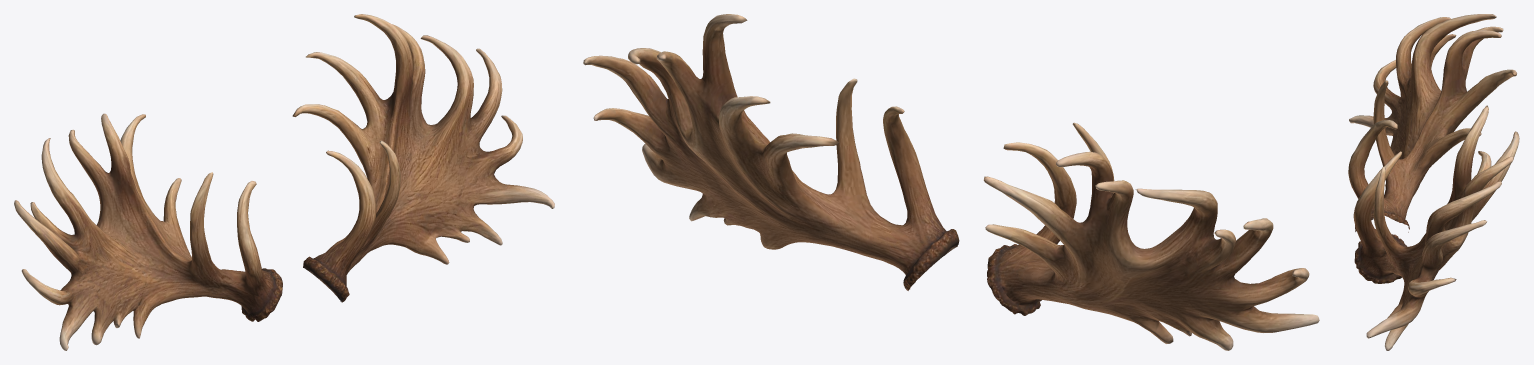
The model's file is antlers_tripo.glb.
3 views of the same model, side by side, from view 1: azimuth 30°, elevation 25°; view 2: azimuth 150°, elevation 25°; view 3: azimuth 270°, elevation 25° (orthographic). The views are drawn at different scales.
Parts seen in each view (by area): view 1: Antlers; view 2: Antlers; view 3: Antlers.
Part boxes in pixels (x1,y1,x2,y2): Antlers: [14, 14, 554, 350]; Antlers: [583, 14, 1319, 350]; Antlers: [1348, 14, 1519, 350].
Size of the model in its own units: 1 by 0.4186 by 0.3046.
1 material, 1 textured.
